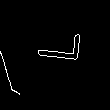L_W: (28, 37, 82, 73)
